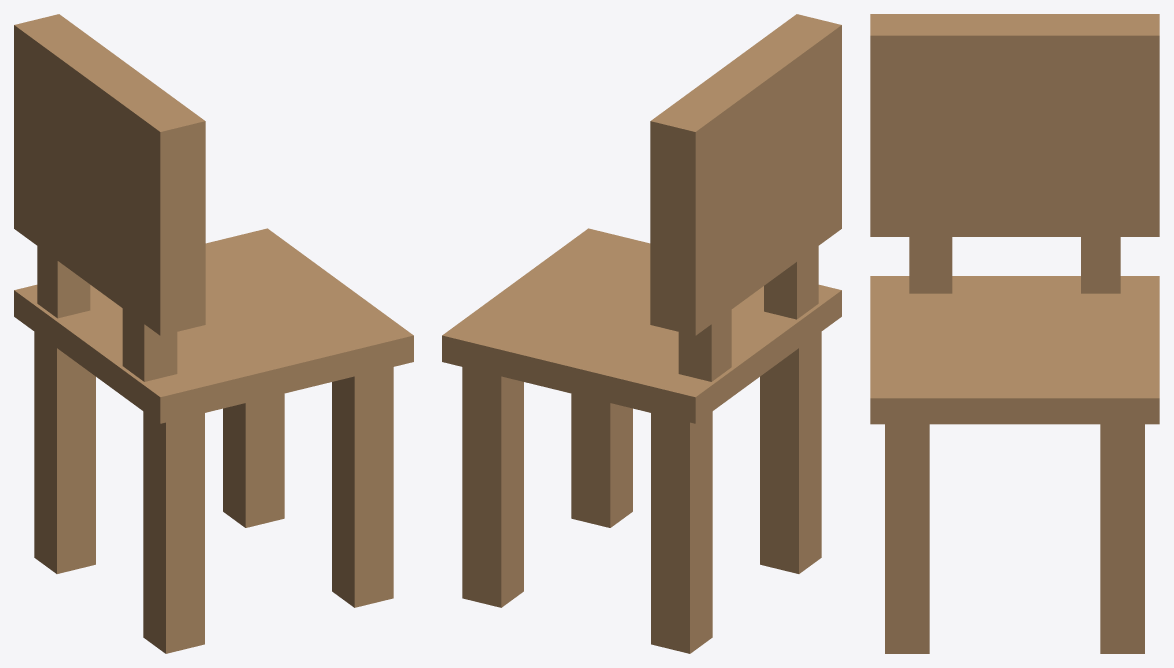
The model's file is Chair.fbx.
The picture shows the model from 3 angles, left to right: view 1: azimuth 30°, elevation 25°; view 2: azimuth 150°, elevation 25°; view 3: azimuth 270°, elevation 25°; orthographic projection.
Visible parts, largest first — view 1: Chair; view 2: Chair; view 3: Chair.
Part boxes in pixels (x1,y1,x2,y2): Chair: (14, 14, 413, 653); Chair: (442, 14, 841, 653); Chair: (870, 14, 1159, 653).
Bounding box in the file's own units: 200 × 400 × 200.
